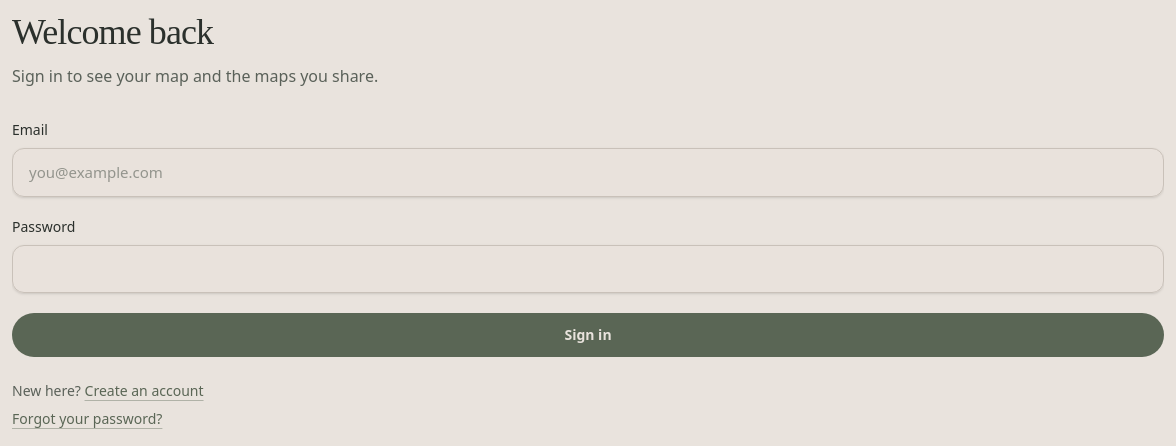
Test: SignInForm › shows the code step when the account was never verified
Type "ada@example.com" into the field labelled "Email" at [588, 172], box x1=12 y1=148 x2=1164 y2=196
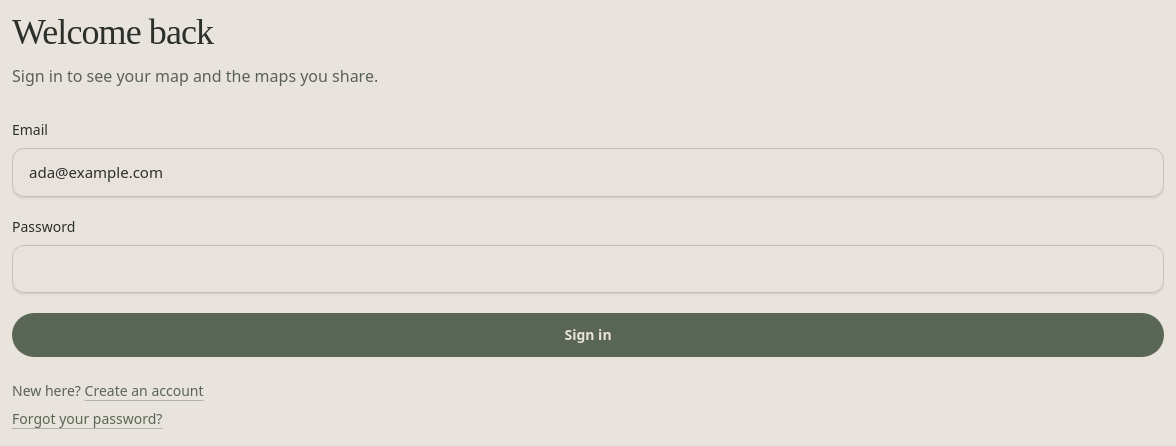
Type "correct horse" into the password field labelled "Password" at [588, 269], box x1=12 y1=244 x2=1164 y2=293
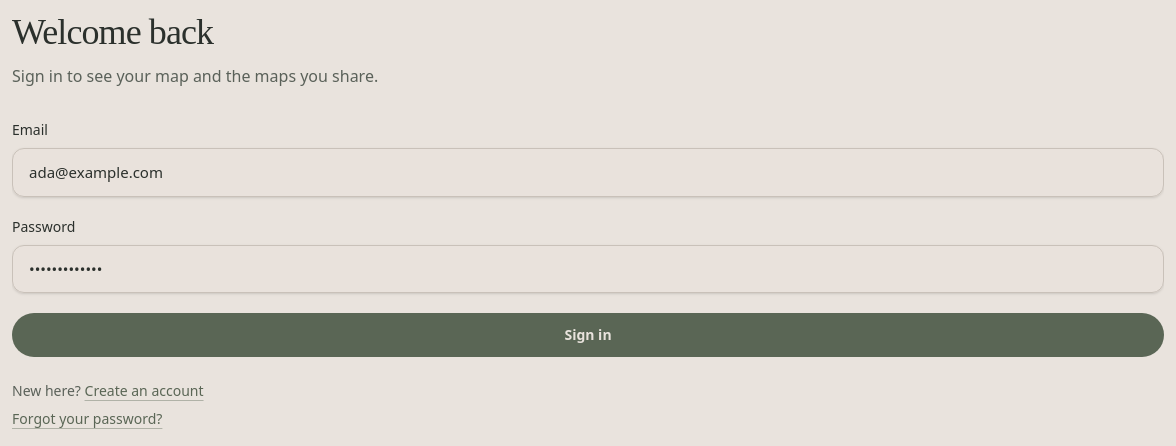
Click the button "Sign in" at [588, 335], box x1=12 y1=313 x2=1164 y2=357
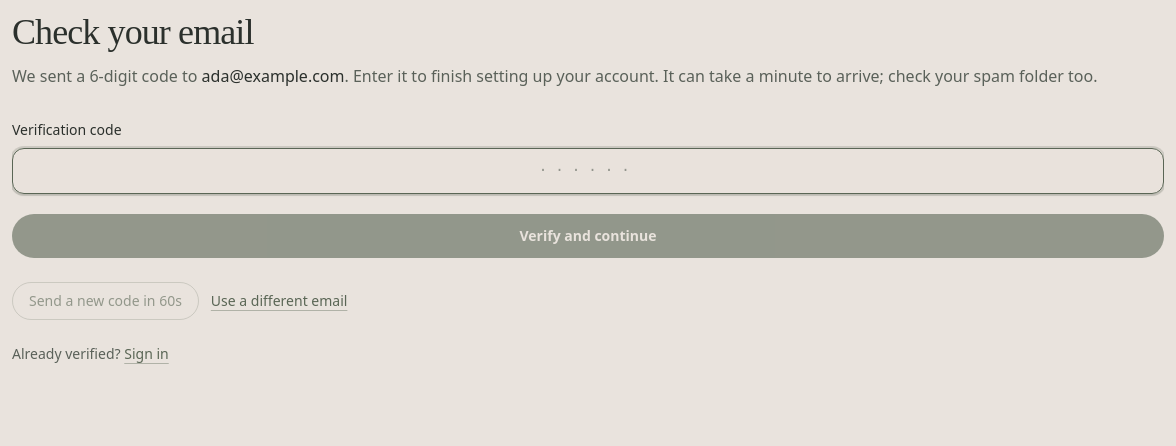
Now the heading "Check your email" is shown, box x1=12 y1=12 x2=254 y2=52
